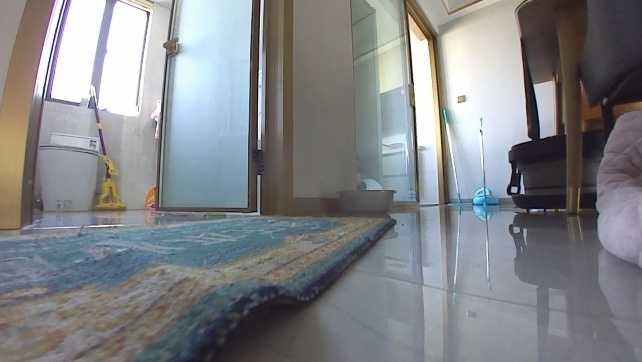door_anno: (154, 0, 294, 219)
toilet: (0, 211, 399, 361), (35, 130, 102, 214)
